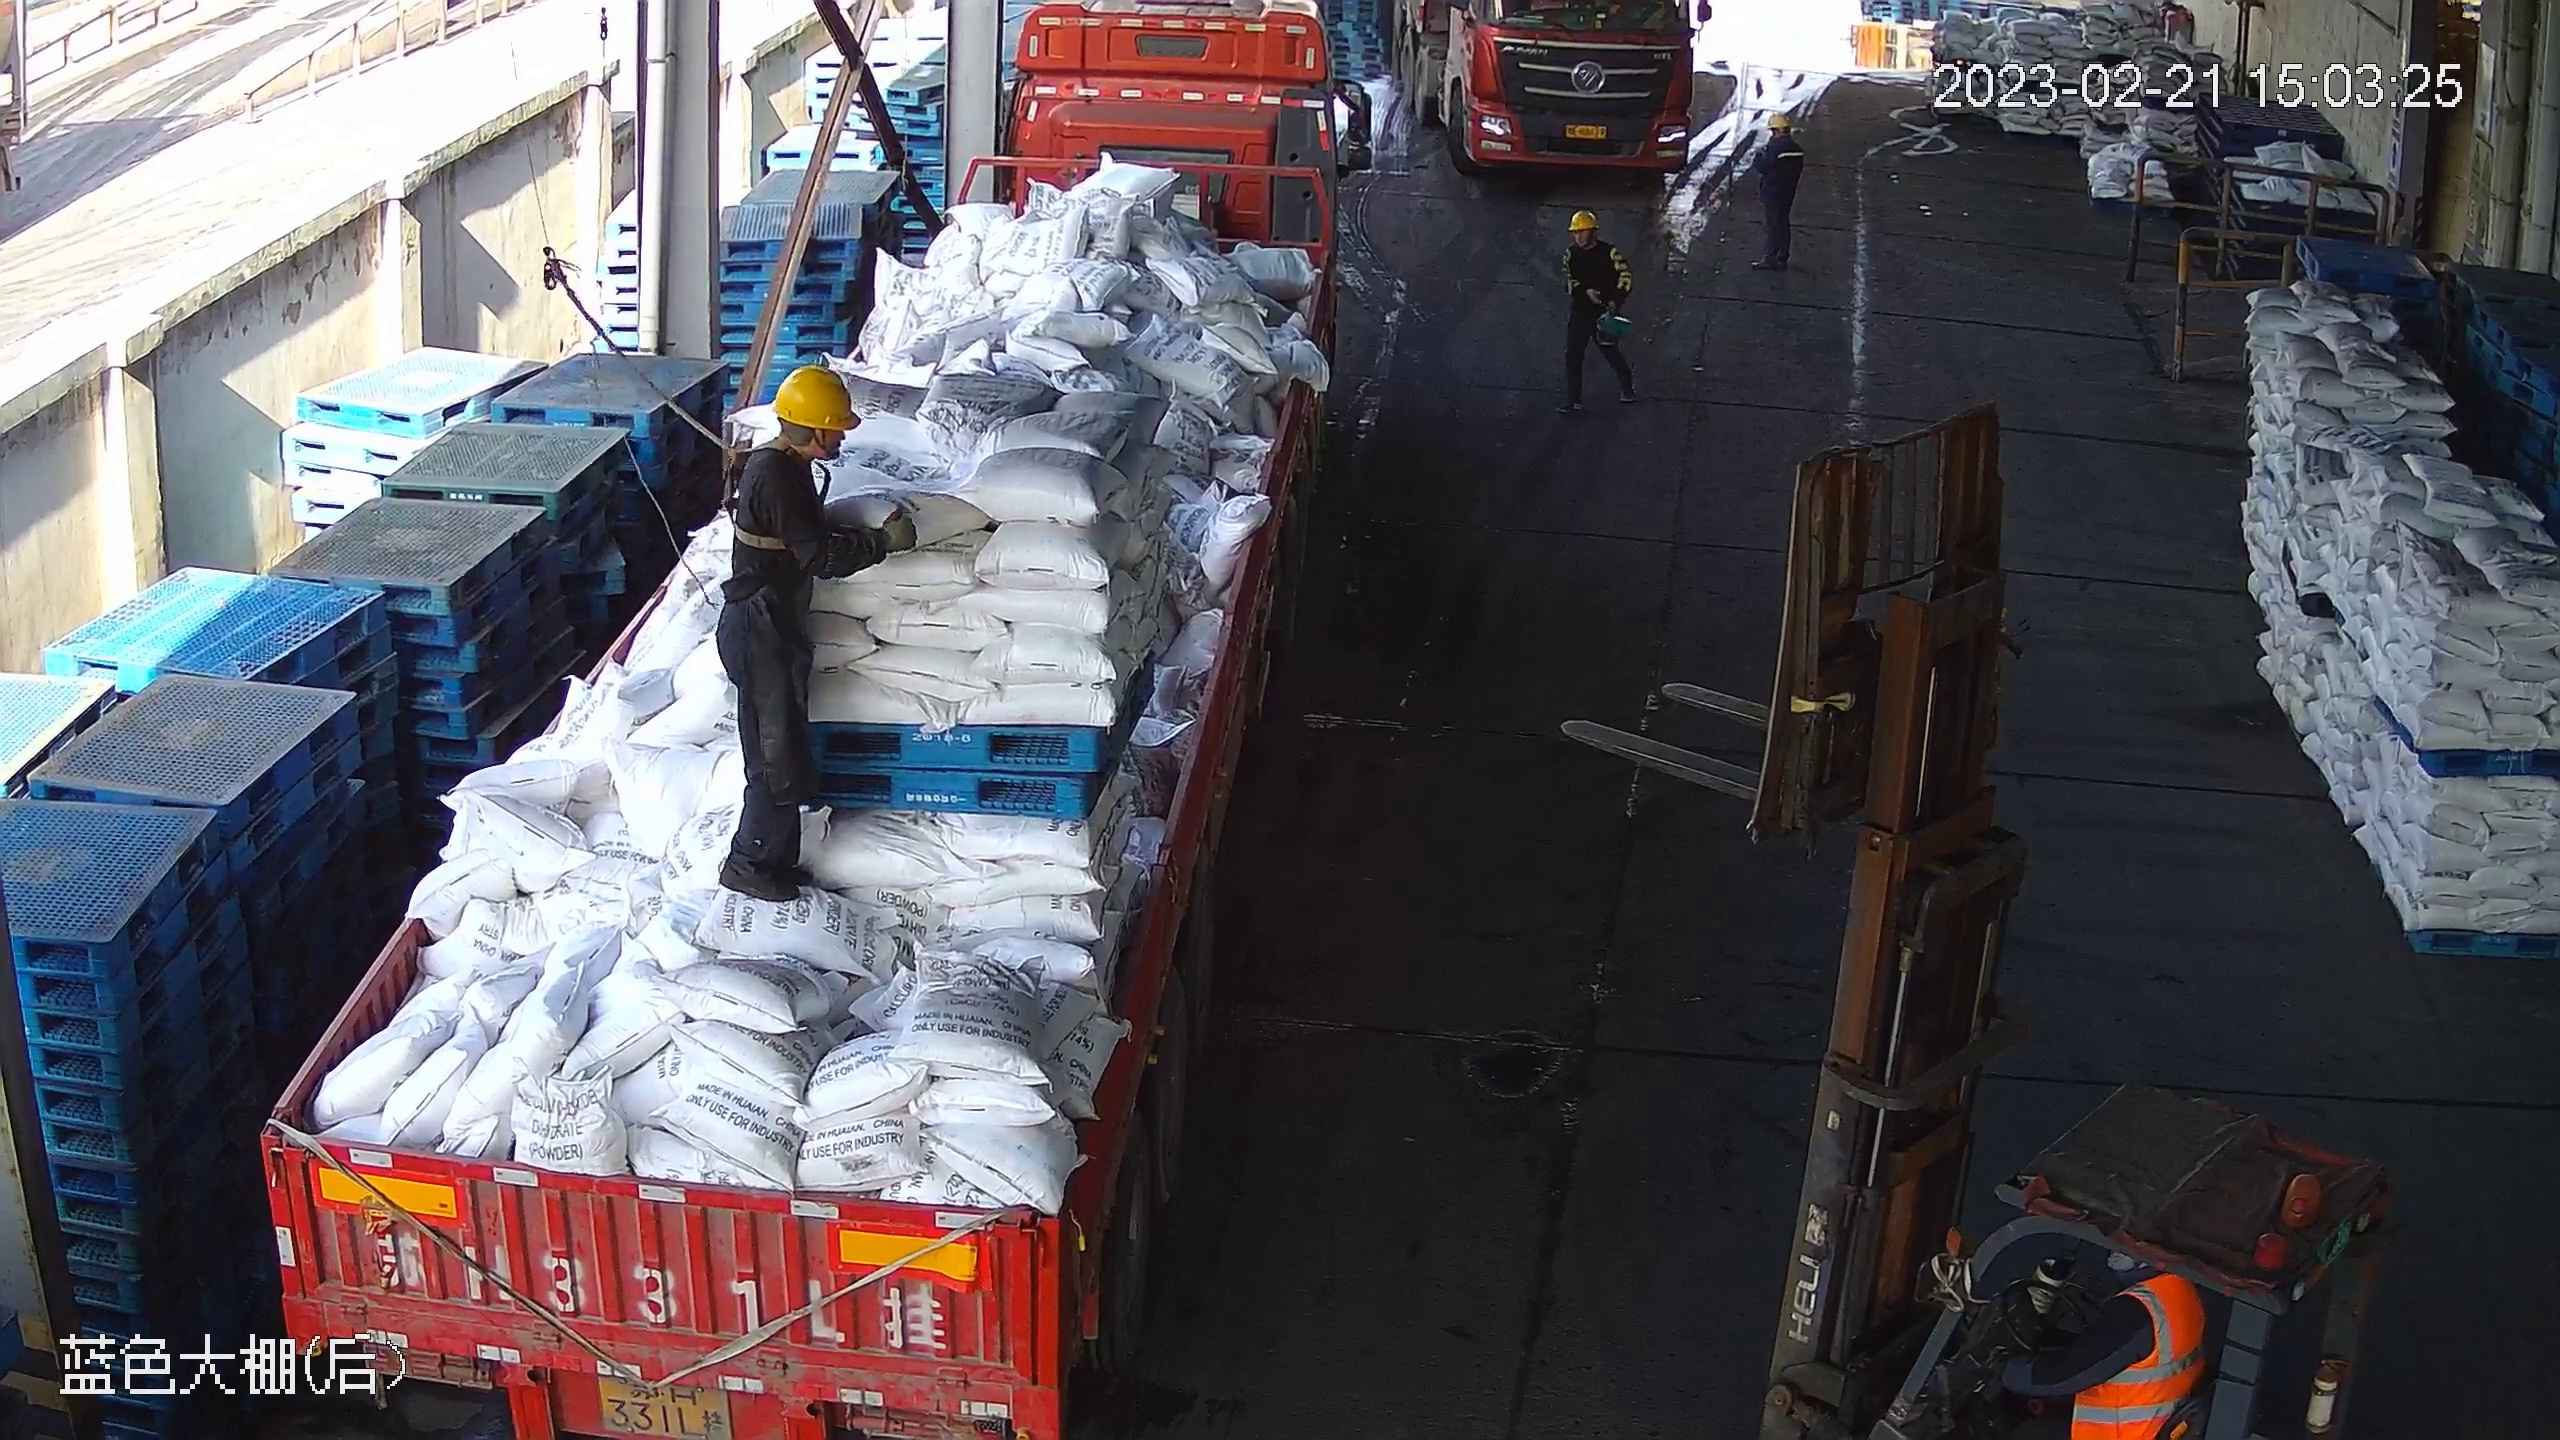belt: (715, 437, 828, 549)
head: (736, 368, 862, 495), (1560, 208, 1618, 262), (1762, 114, 1809, 162)
helmet: (769, 364, 862, 432), (1567, 209, 1599, 232), (1767, 114, 1791, 129)
people: (711, 364, 918, 905), (1556, 207, 1639, 413), (1751, 114, 1804, 272)
truck: (259, 1, 1341, 1424), (1389, 1, 1709, 185)
